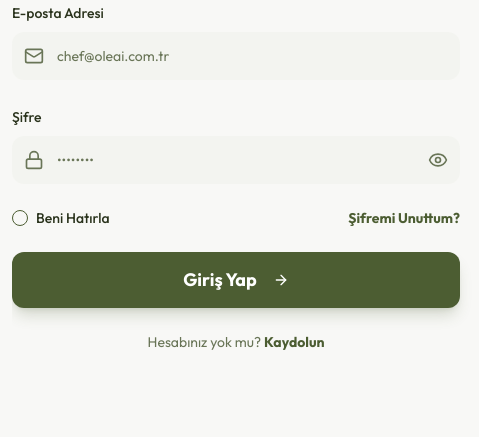
Scenario: LoginForm › handles general API error gracefully
The image size is (479, 437).
In the field labelled "E-posta Adresi": {"x": 236, "y": 56} [12,32,460,80], type "test@example.com"
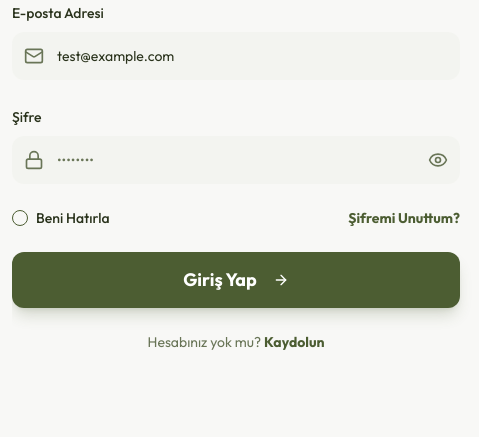
In the password field labelled "Şifre": {"x": 236, "y": 160} [12,136,460,184], type "wrongpassword"
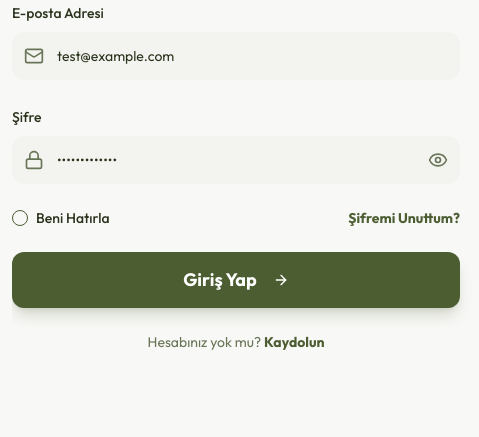
Click the button "Giriş Yap": {"x": 236, "y": 280} [12,252,460,308]
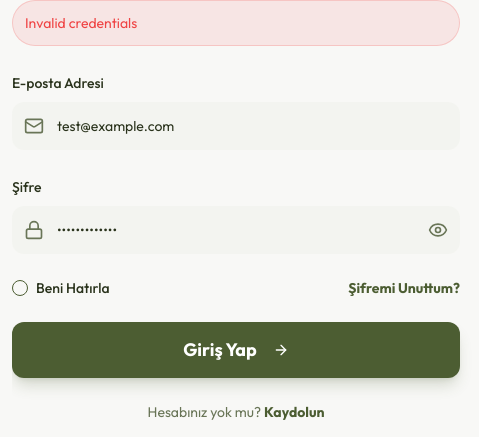
Check: the text "Invalid credentials" is shown, box [12,0,460,46]
